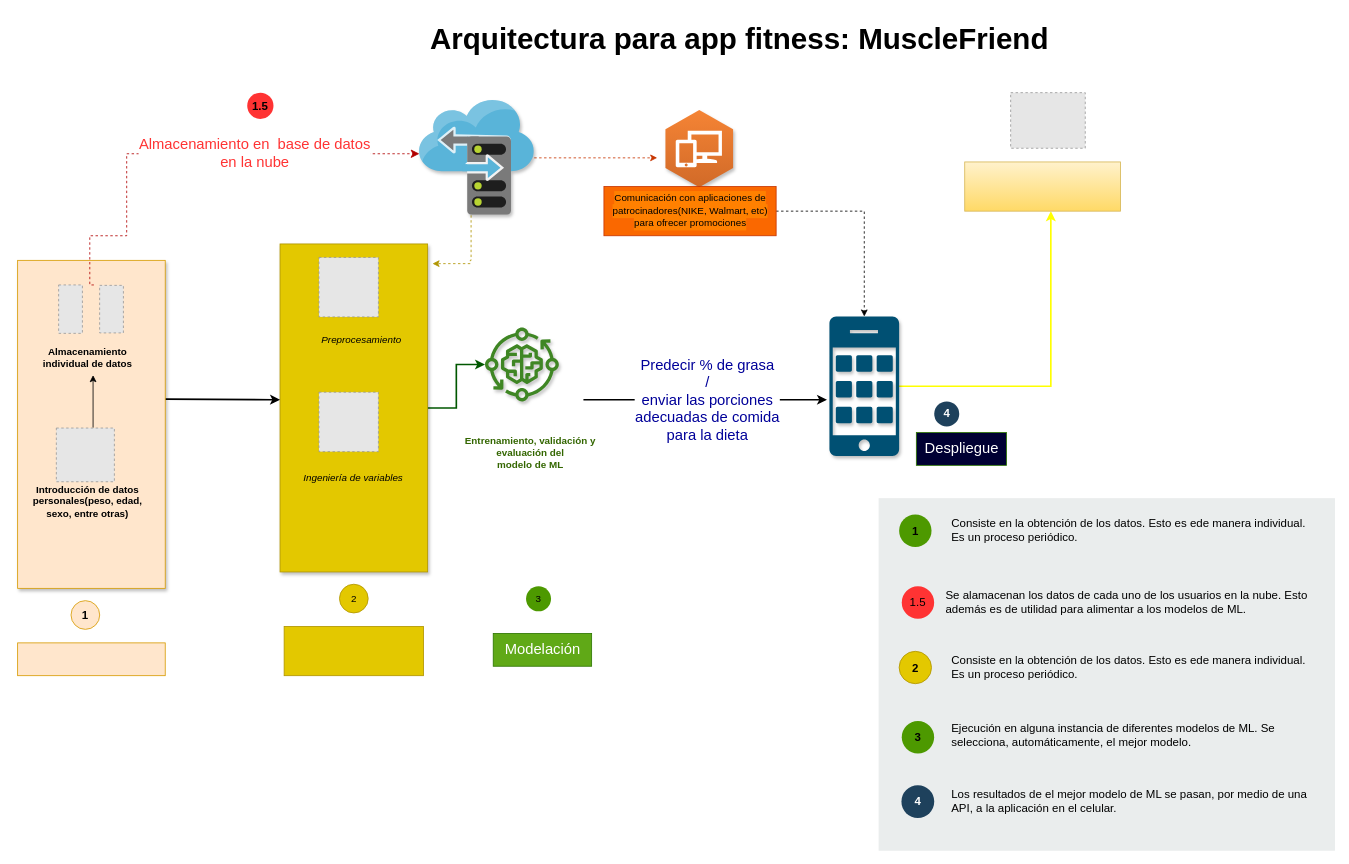
Image size: 1349x864. Some labels were removed from this diagram. Grey dashed boxes stand in for pictures. The centre of each missing label's shape, as x and y in pixels:
Despliegue de estadísticas en un dashboard dentro de la misma aplicación: [1042,186]
Obtención de datos: [91,659]
Transformación de datos: [353,651]
